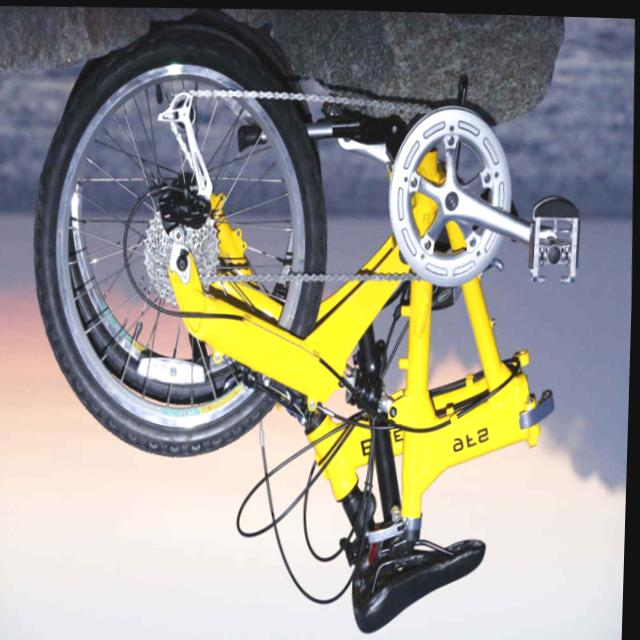folding-bike: (21, 11, 596, 640)
